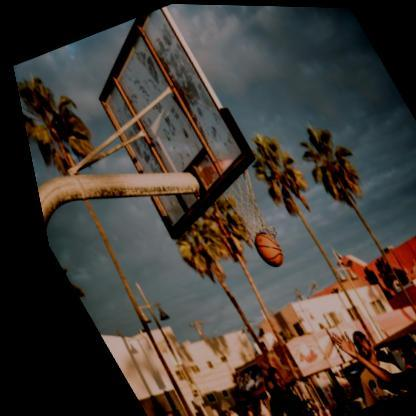basketball: (238, 227, 279, 269)
rim: (180, 141, 282, 254)
